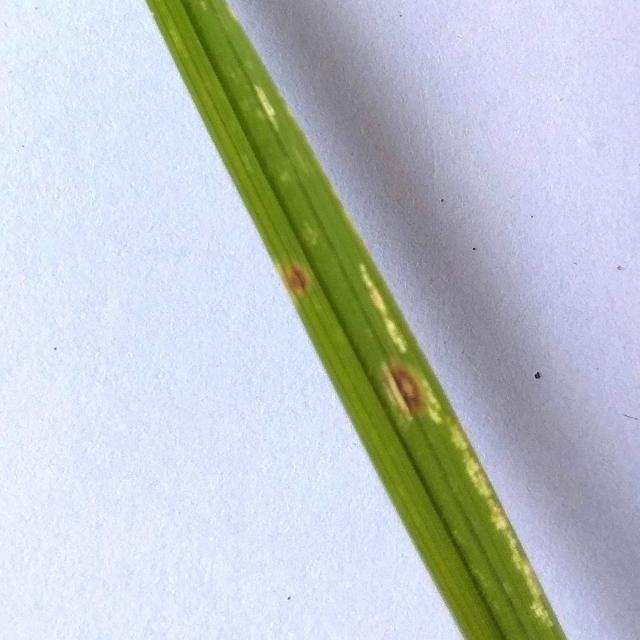Leaf_Blast: (353, 302, 462, 460), (267, 227, 347, 336)
